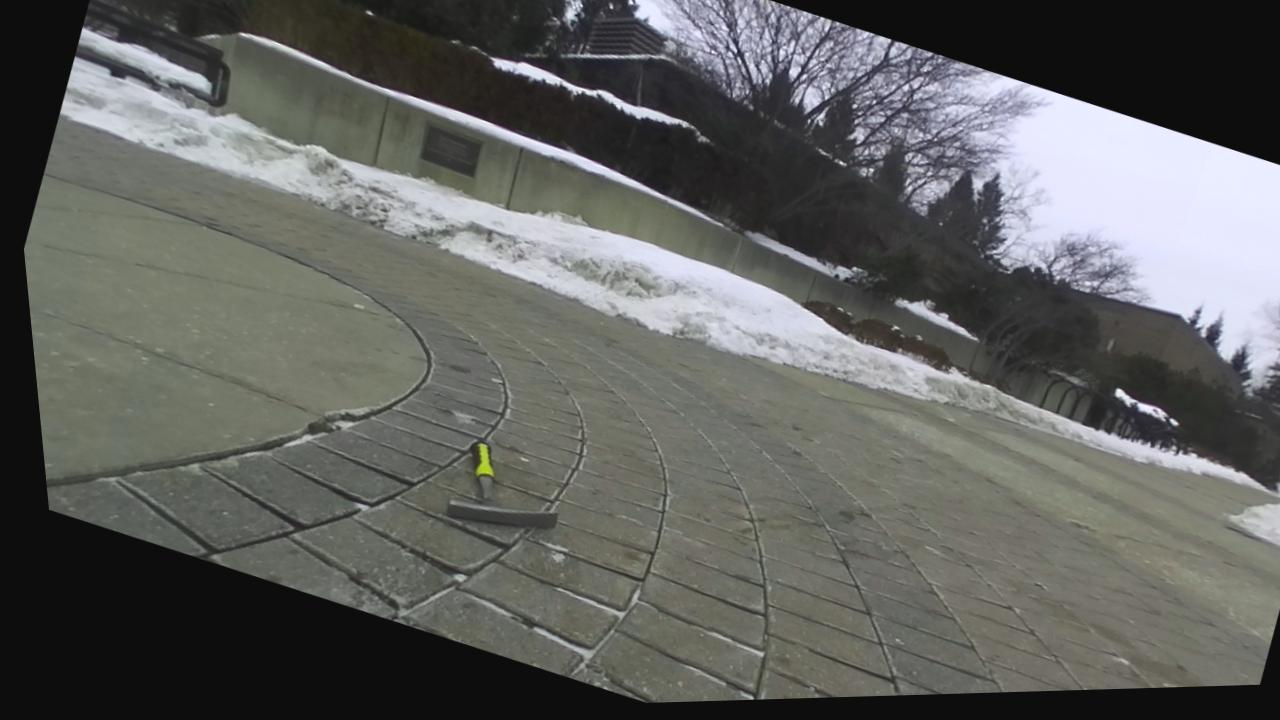pick: (446, 441, 555, 526)
